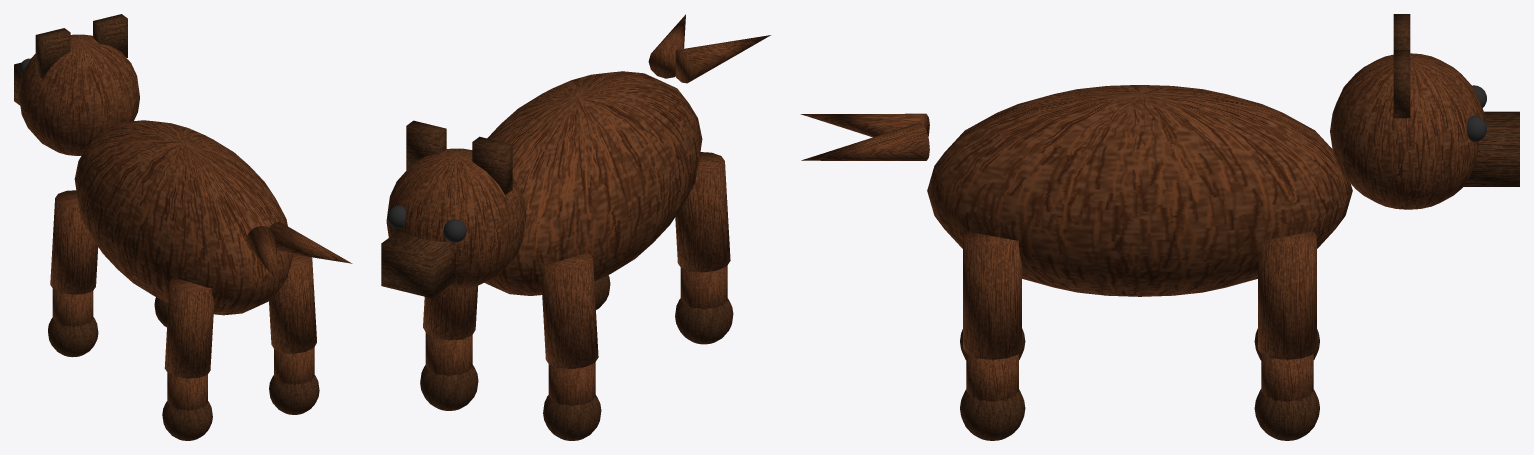
Rendered from sha-beast.glb.
3 views of the same model, side by side, from view 1: azimuth 30°, elevation 25°; view 2: azimuth 150°, elevation 25°; view 3: azimuth 270°, elevation 25° (orthographic). The views are drawn at different scales.
Visible parts, largest first — view 1: Body, Head, LegUpper.001, LegUpper, LegUpper.003, Paw.003, Paw.001, Paw, ForkTail1, LegLower, LegLower.001, LegLower.003 (+3 smaller); view 2: Body, Head, LegUpper, LegUpper.001, ShaSnout, LegUpper.002, ForkTail2, Paw, Paw.002, Paw.001, LegLower, LegLower.001 (+6 smaller); view 3: Body, Head, LegUpper.002, LegUpper.003, ShaSnout, ForkTail1, Paw.002, Paw.003, LegLower.002, LegLower.003, ForkTail2, SquareEar.001.
Boxes of the visible parts, <box> form: Body: <box>74,120,292,315</box>; Head: <box>18,34,139,155</box>; LegUpper.001: <box>164,277,214,378</box>; LegUpper: <box>50,190,98,294</box>; LegUpper.003: <box>269,254,316,353</box>; Paw.003: <box>269,375,319,414</box>; Paw.001: <box>162,401,212,440</box>; Paw: <box>48,317,98,357</box>; ForkTail1: <box>269,221,352,263</box>; LegLower: <box>52,289,93,326</box>; LegLower.001: <box>167,373,207,410</box>; LegLower.003: <box>274,347,314,384</box>; Body: <box>484,71,702,295</box>; Head: <box>386,148,526,288</box>; LegUpper: <box>541,252,598,368</box>; LegUpper.001: <box>675,152,730,272</box>; ShaSnout: <box>381,230,457,298</box>; LegUpper.002: <box>423,285,478,340</box>; ForkTail2: <box>675,35,770,83</box>; Paw: <box>543,395,601,440</box>; Paw.002: <box>420,365,478,410</box>; Paw.001: <box>675,298,733,344</box>; LegLower: <box>548,362,595,406</box>; LegLower.001: <box>680,265,727,309</box>; Body: <box>927,85,1352,296</box>; Head: <box>1330,53,1485,209</box>; LegUpper.002: <box>1258,230,1316,359</box>; LegUpper.003: <box>963,230,1021,359</box>; ShaSnout: <box>1462,111,1519,186</box>; ForkTail1: <box>801,122,929,160</box>; Paw.002: <box>1254,389,1319,440</box>; Paw.003: <box>960,389,1025,440</box>; LegLower.002: <box>1261,354,1313,401</box>; LegLower.003: <box>966,354,1018,401</box>; ForkTail2: <box>800,113,929,137</box>; SquareEar.001: <box>1393,50,1410,118</box>.
Bounding box in the file's own units: 0.5584 × 1 × 1.79.
3 materials, 2 textured.
